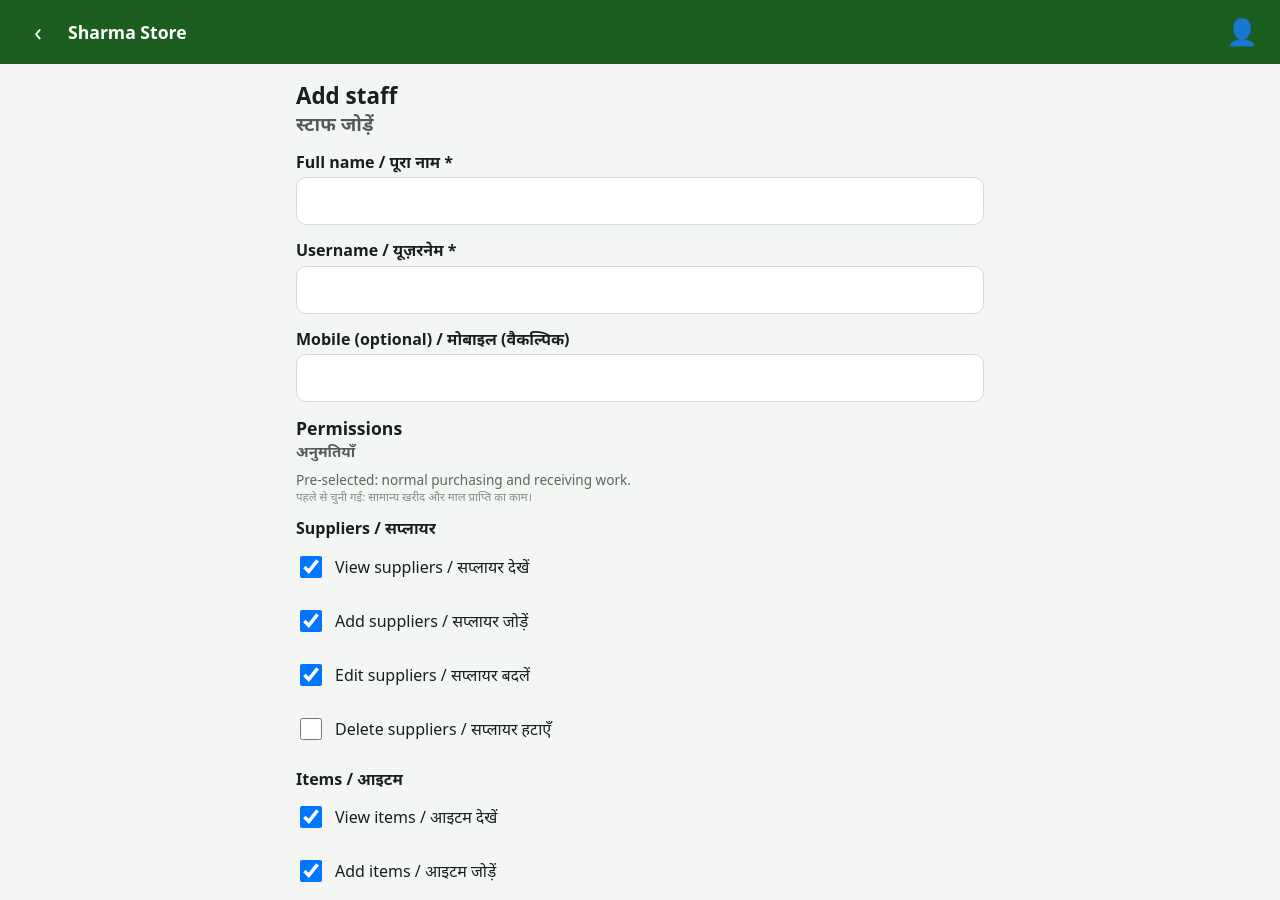
Test: staff › creating an account asks for the password, retries with the step-up token and offers the sign-in details
Type "Sita Devi" into the field labelled "Full name / पूरा नाम *" at (640, 201), box [296,177,984,225]
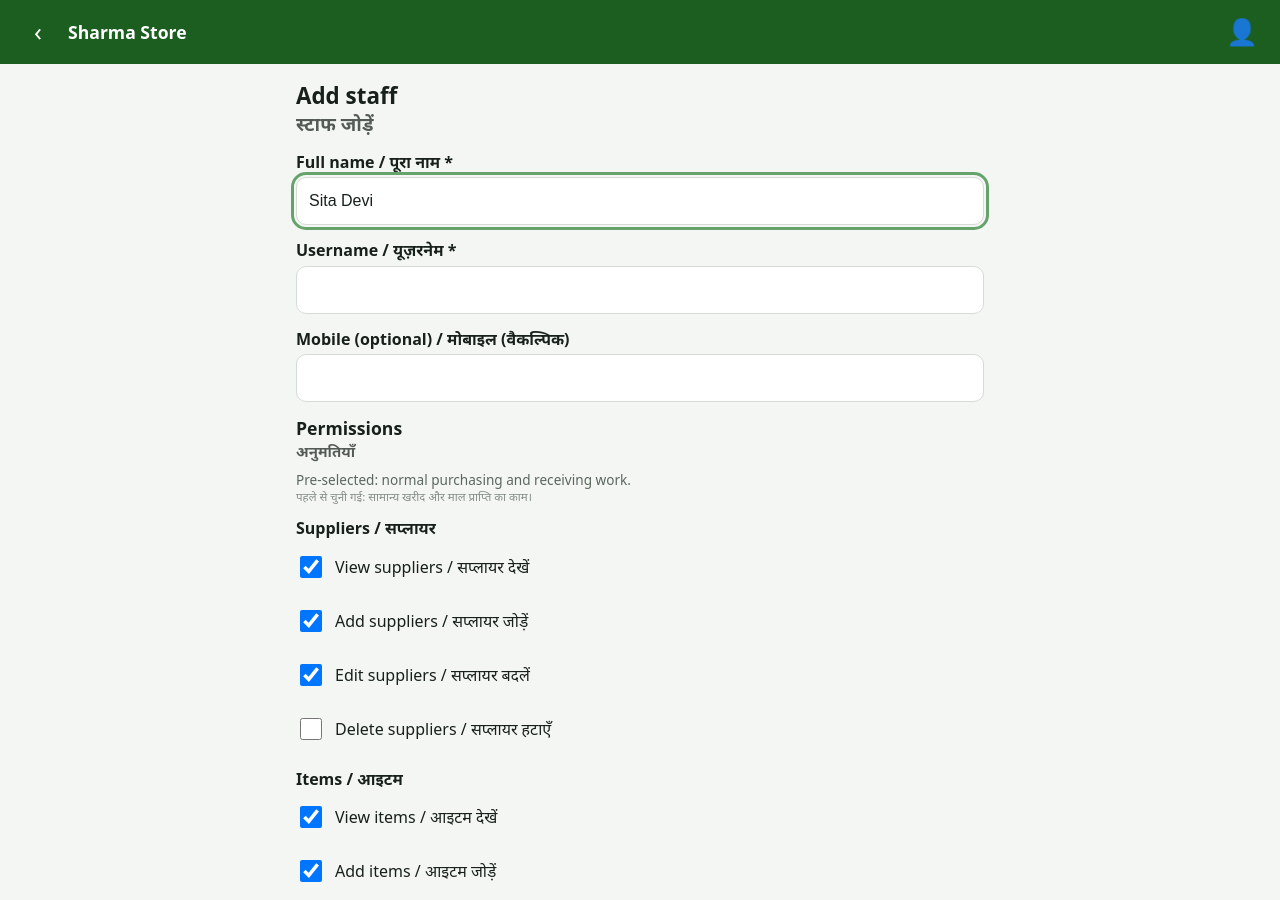
Type "sita.d" into the field labelled "Username / यूज़रनेम *" at (640, 290), box [296,266,984,314]
(page scrolled)
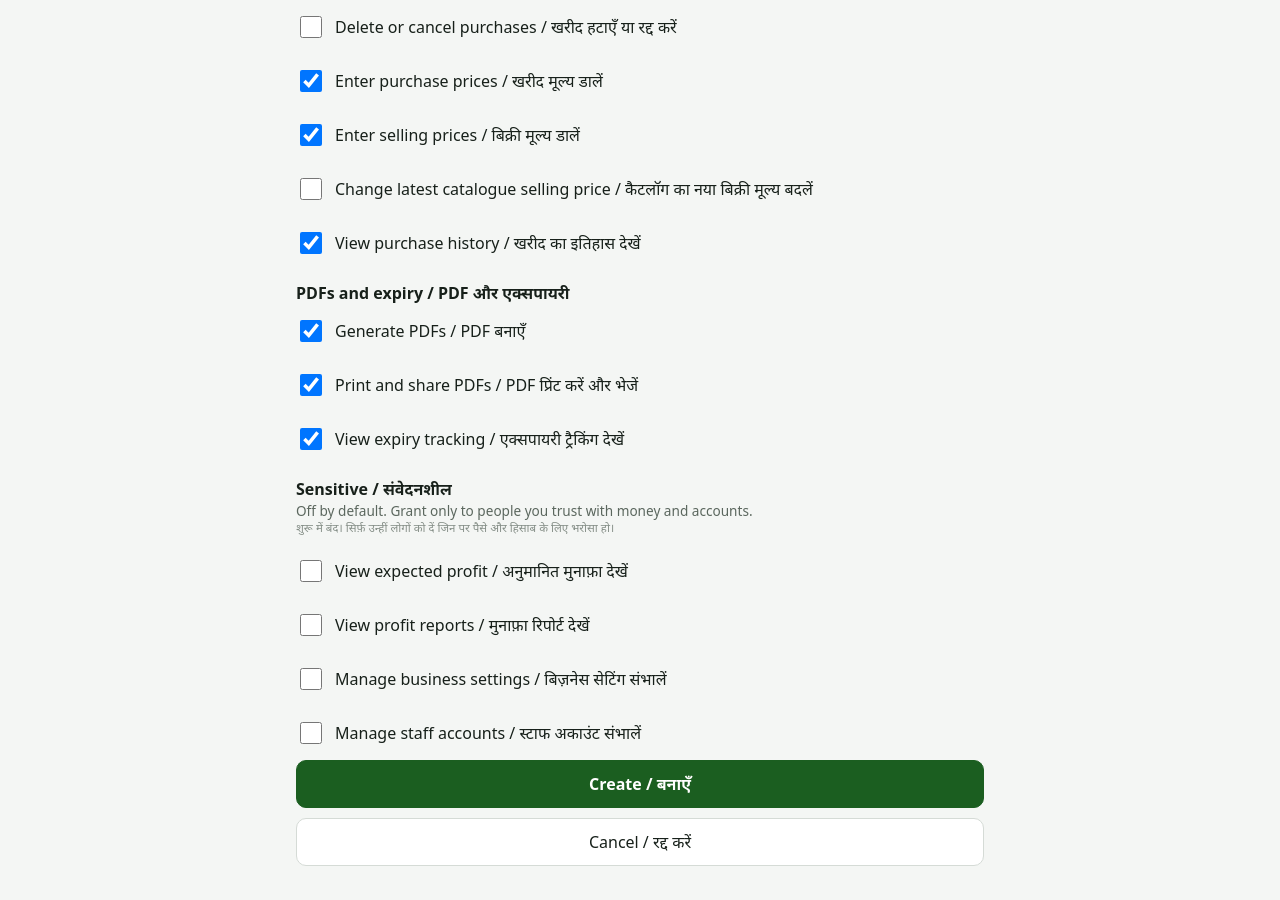
Click the button "Create / बनाएँ" at (640, 784), box [296,760,984,808]
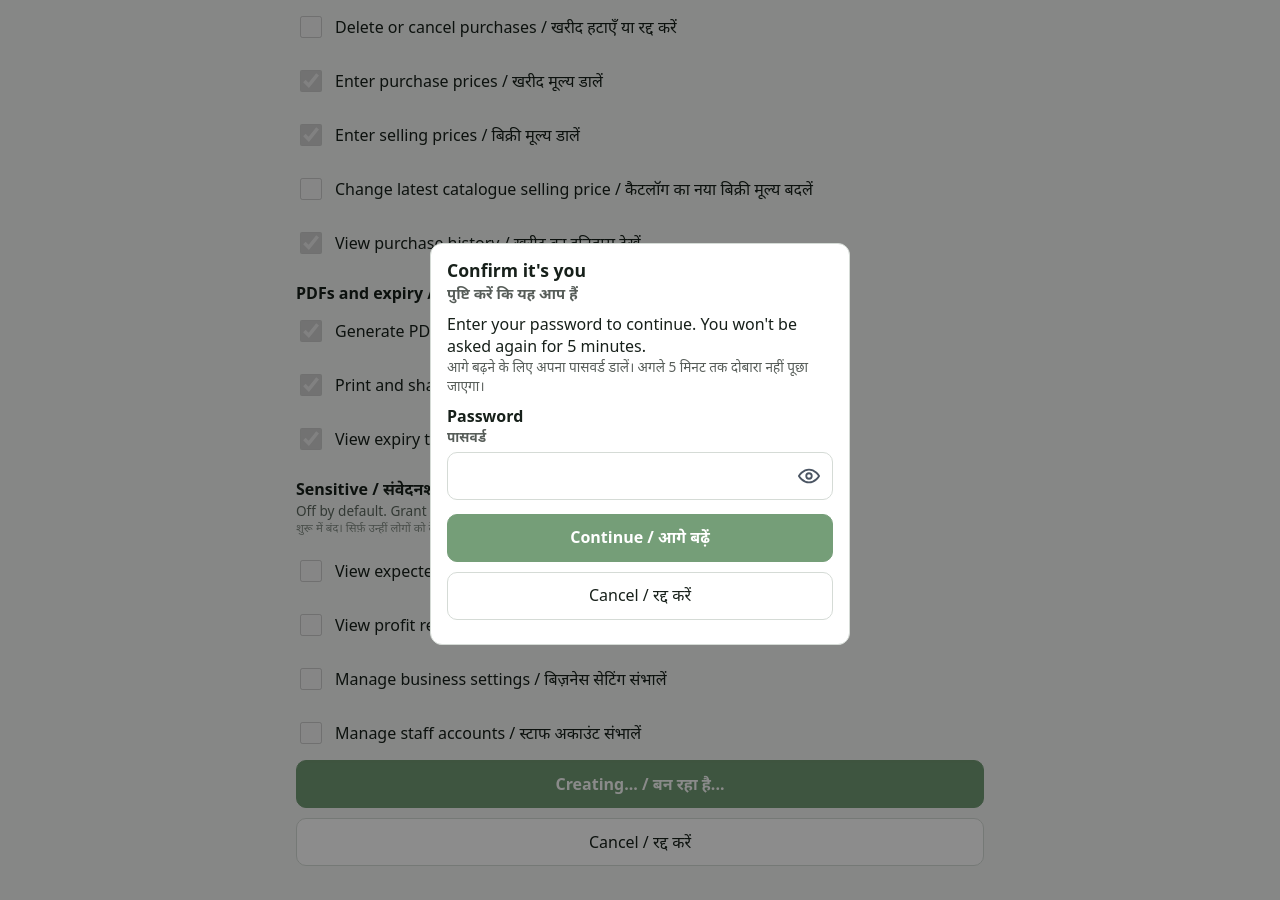
Type "secret" into the password field labelled "Password पासवर्ड" at (640, 476), box [447,452,833,500]
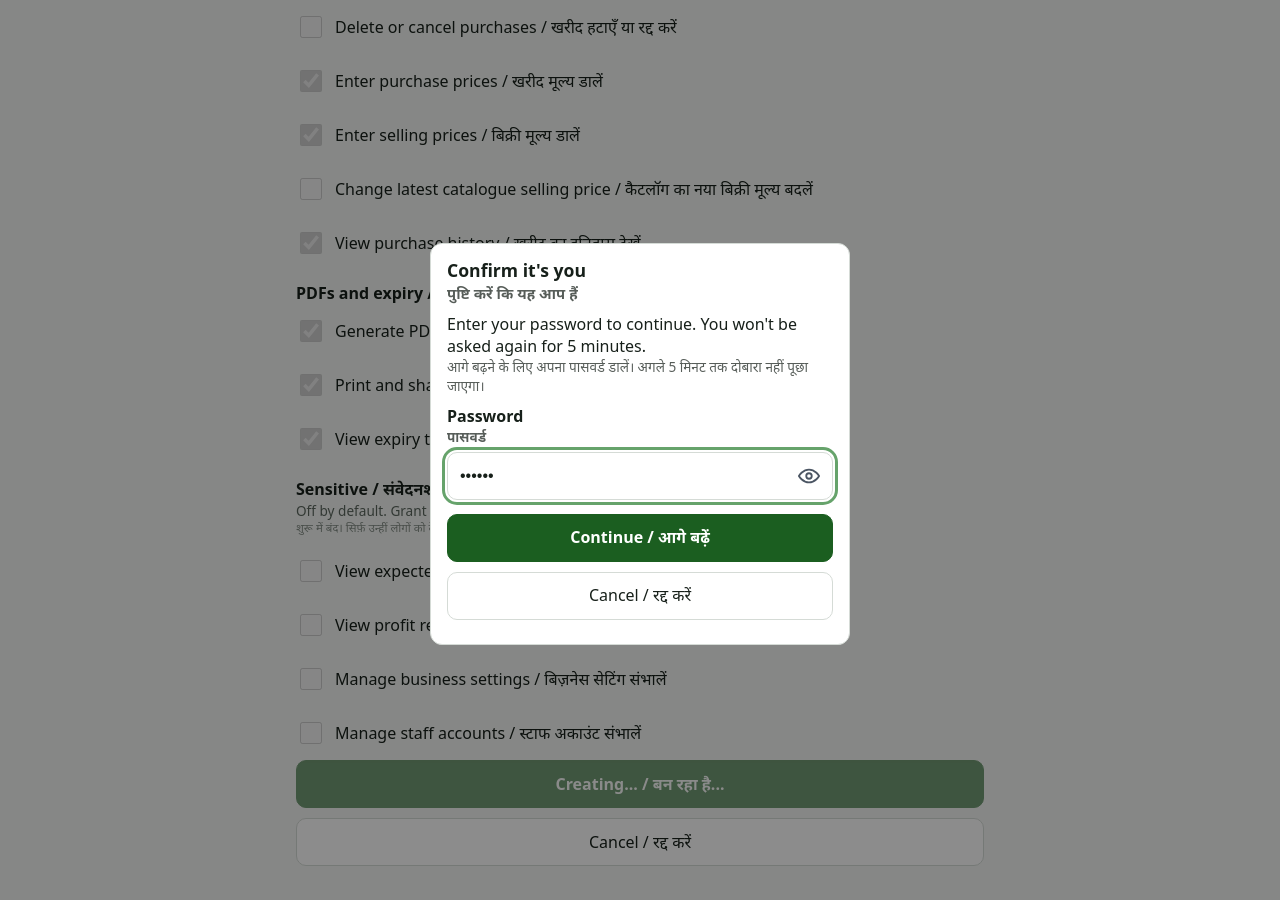
Click the button "Continue / आगे बढ़ें" at (640, 538), box [447,514,833,562]
(page scrolled)
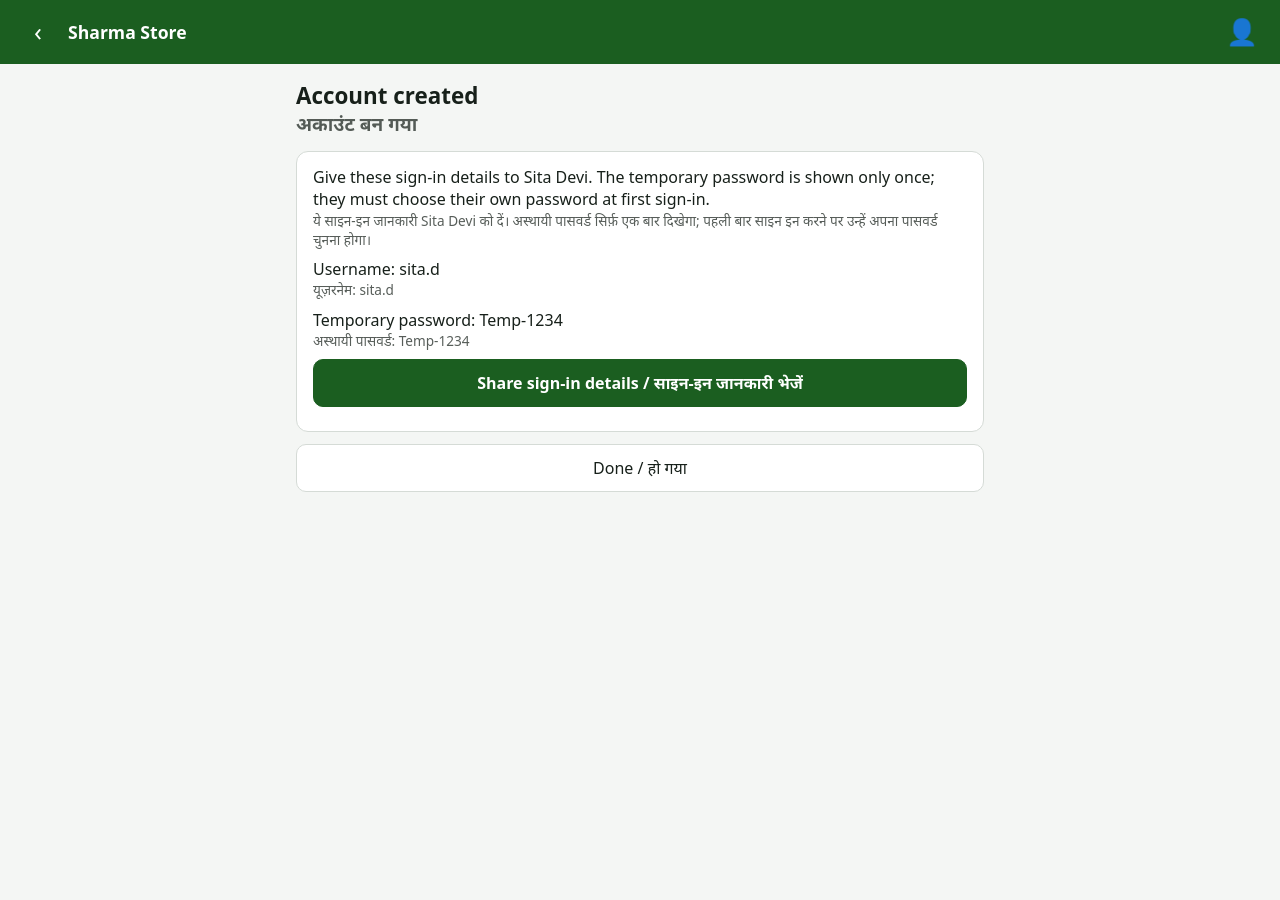
Check: the text "Temporary password: Temp-1234" is shown, box [313,309,563,331]
Check: the button "Share sign-in details / साइन-इन जानकारी भेजें" is shown, box [313,360,967,408]
